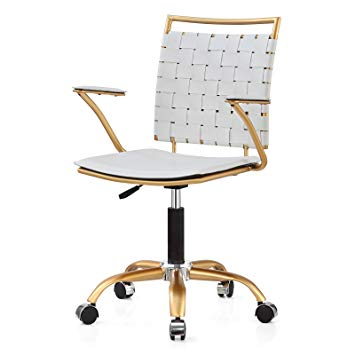chairs: (64, 7, 283, 342)
